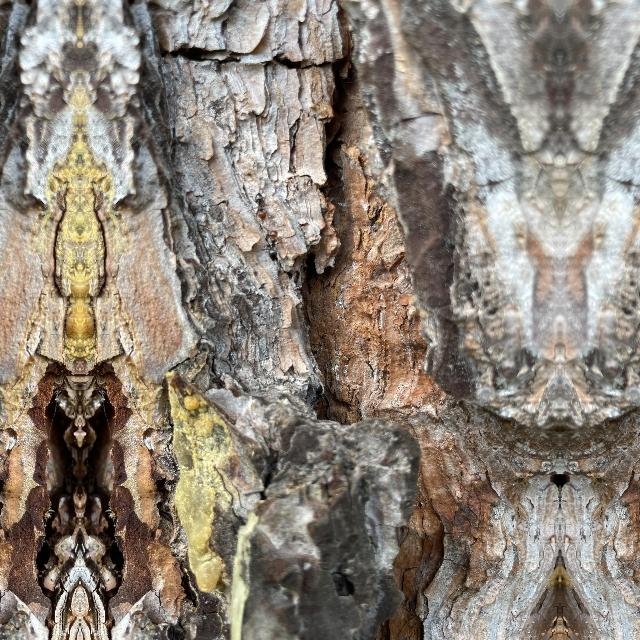Crematogaster: (264, 230, 282, 262), (253, 192, 269, 222)
